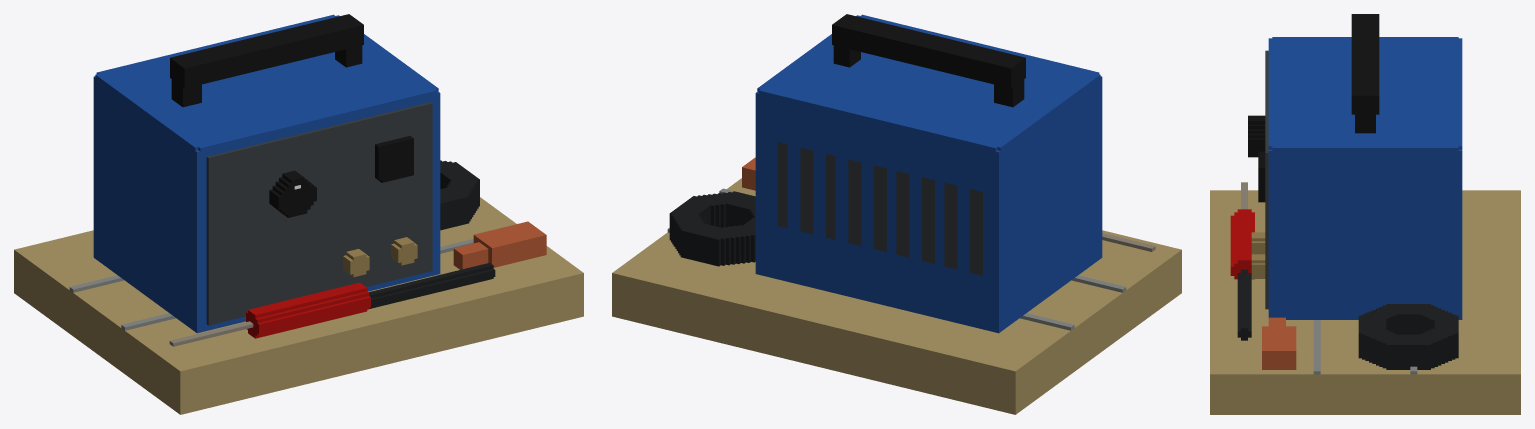
File: welding_kit.glb
3 views of the same model, side by side, from view 1: azimuth 30°, elevation 25°; view 2: azimuth 150°, elevation 25°; view 3: azimuth 270°, elevation 25° (orthographic). The views are drawn at different scales.
Visible parts, largest first — view 1: welding_kit:compound; view 2: welding_kit:compound; view 3: welding_kit:compound.
Part boxes in pixels (<box>): welding_kit:compound: <box>14,14,583,414</box>; welding_kit:compound: <box>612,14,1181,414</box>; welding_kit:compound: <box>1210,14,1520,414</box>.
Bounding box in the file's own units: 0.504 × 0.324 × 0.36.
